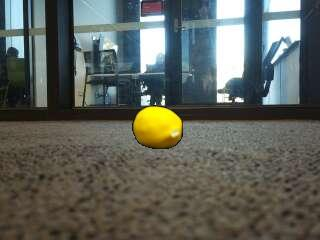lemon: (134, 108, 183, 150)
